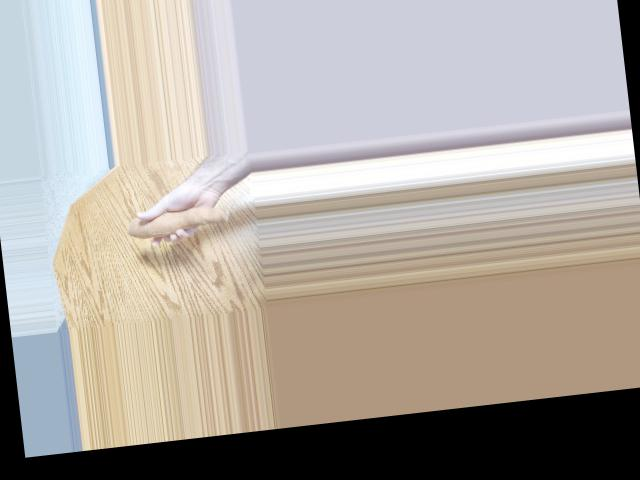sweet_potato: (116, 191, 234, 244)
